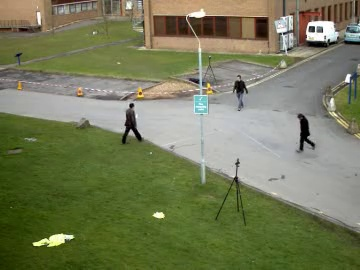person: (292, 113, 314, 152), (121, 101, 139, 143), (232, 73, 249, 109)
